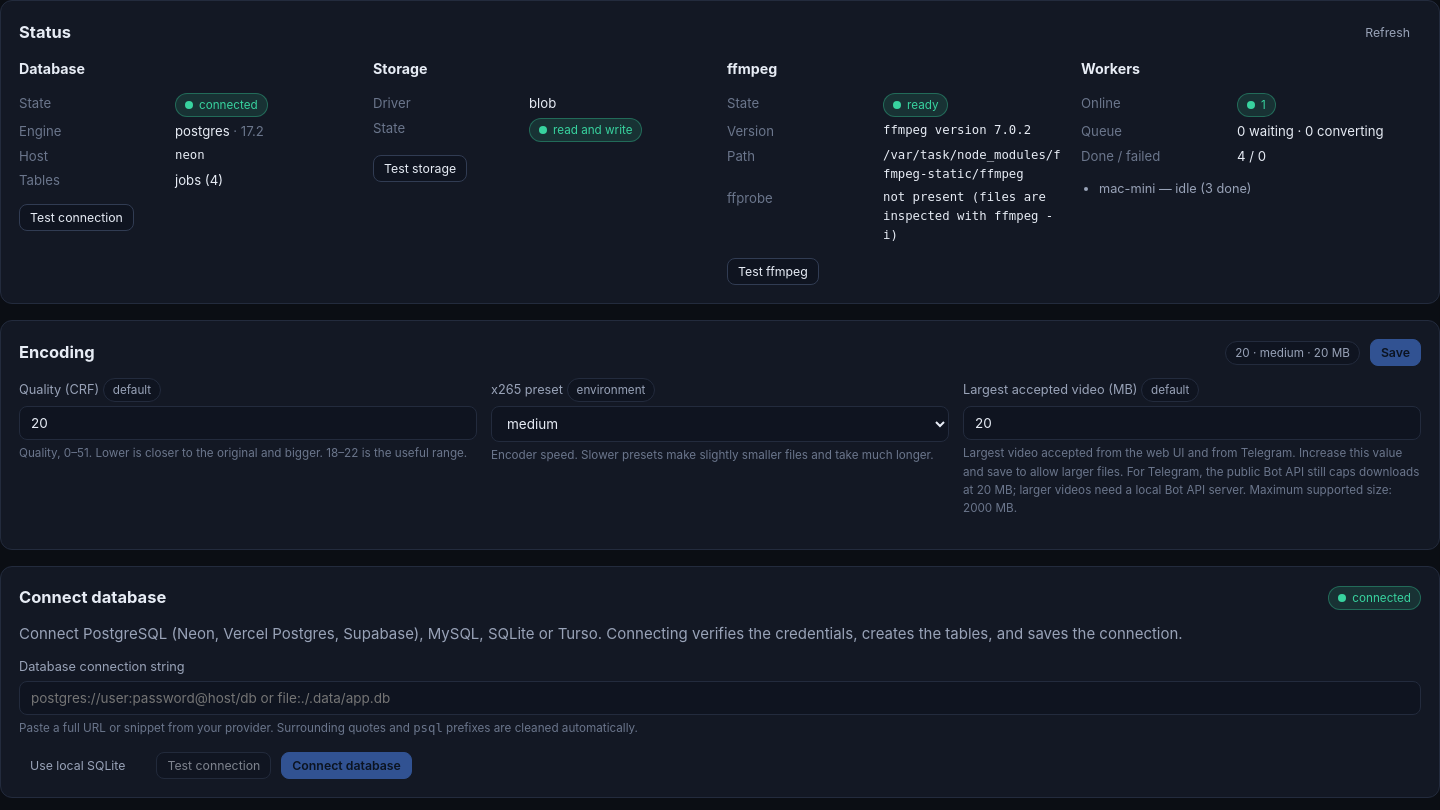
Test: the settings page › shows the deployment status and saves a changed setting
Expected: the text "postgres" is shown, 175,123 -> 230,139
Expected: the text "neon" is shown, 175,148 -> 205,162
Replace the text in the number field labelled "Largest accepted video (MB) default" with "1500" at (1192, 423), box 963,406 -> 1421,440
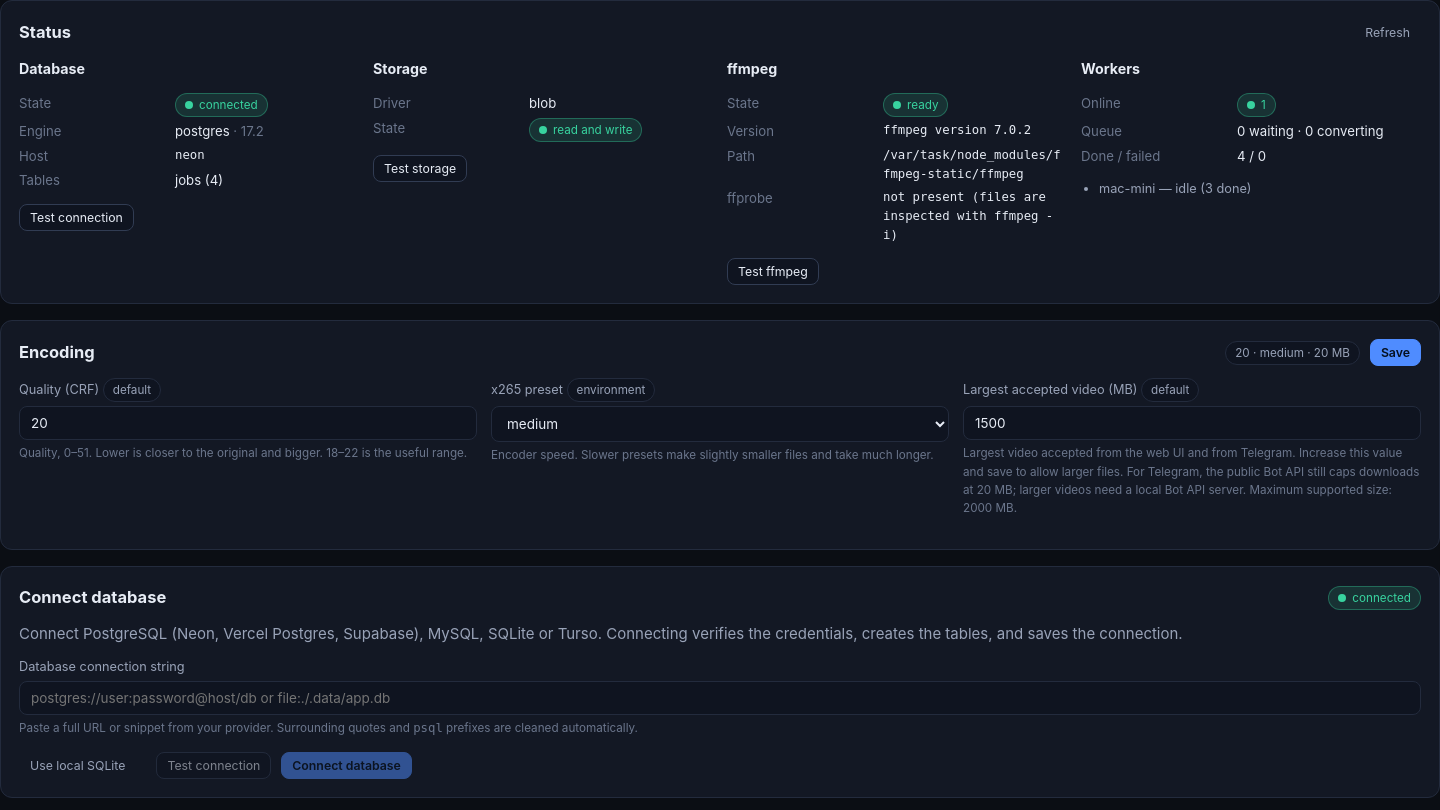
Replace the text in the field labelled "Quality (CRF) default" with "24" at (248, 423), box 19,406 -> 477,440
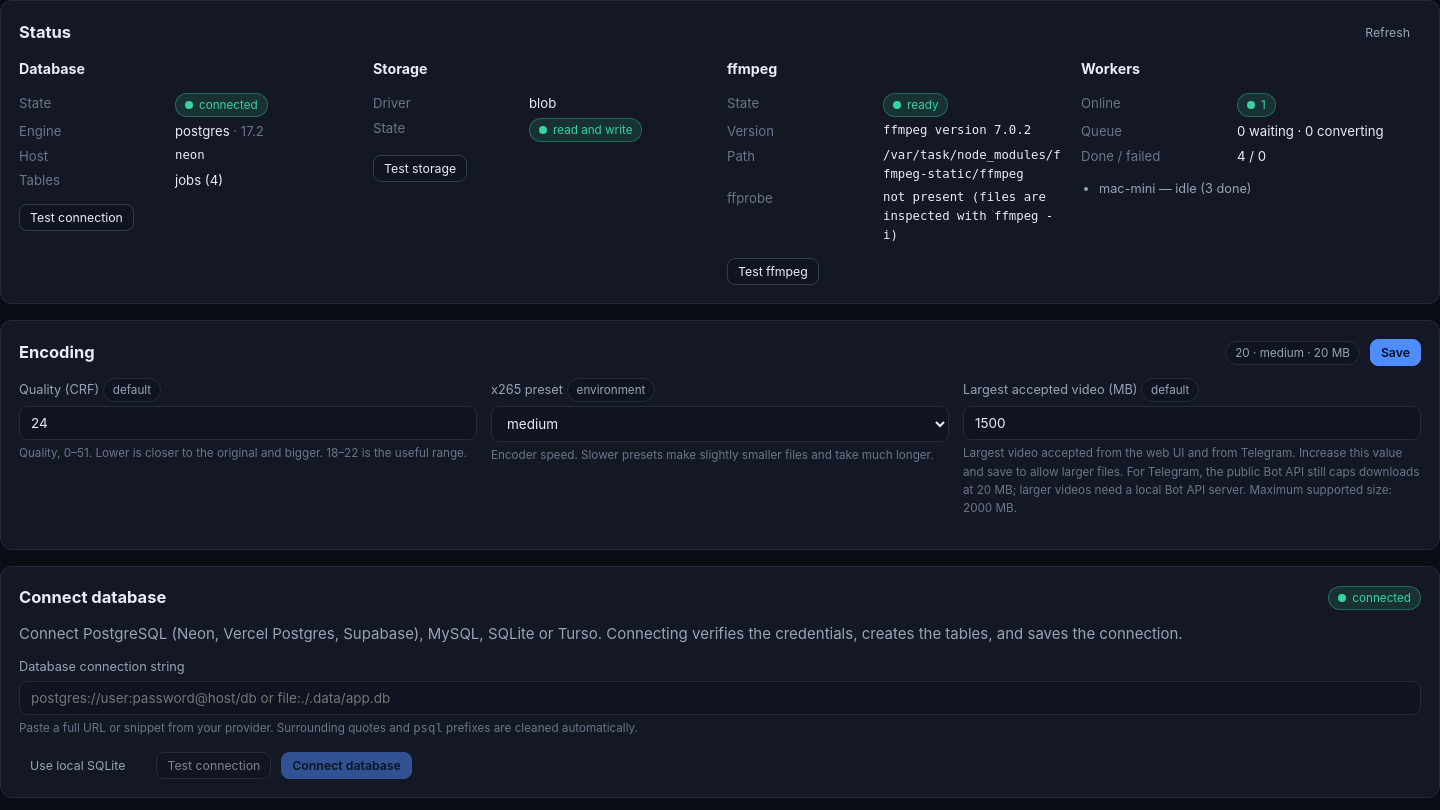
Click the button "Save" at (1395, 353), box 1370,339 -> 1421,366
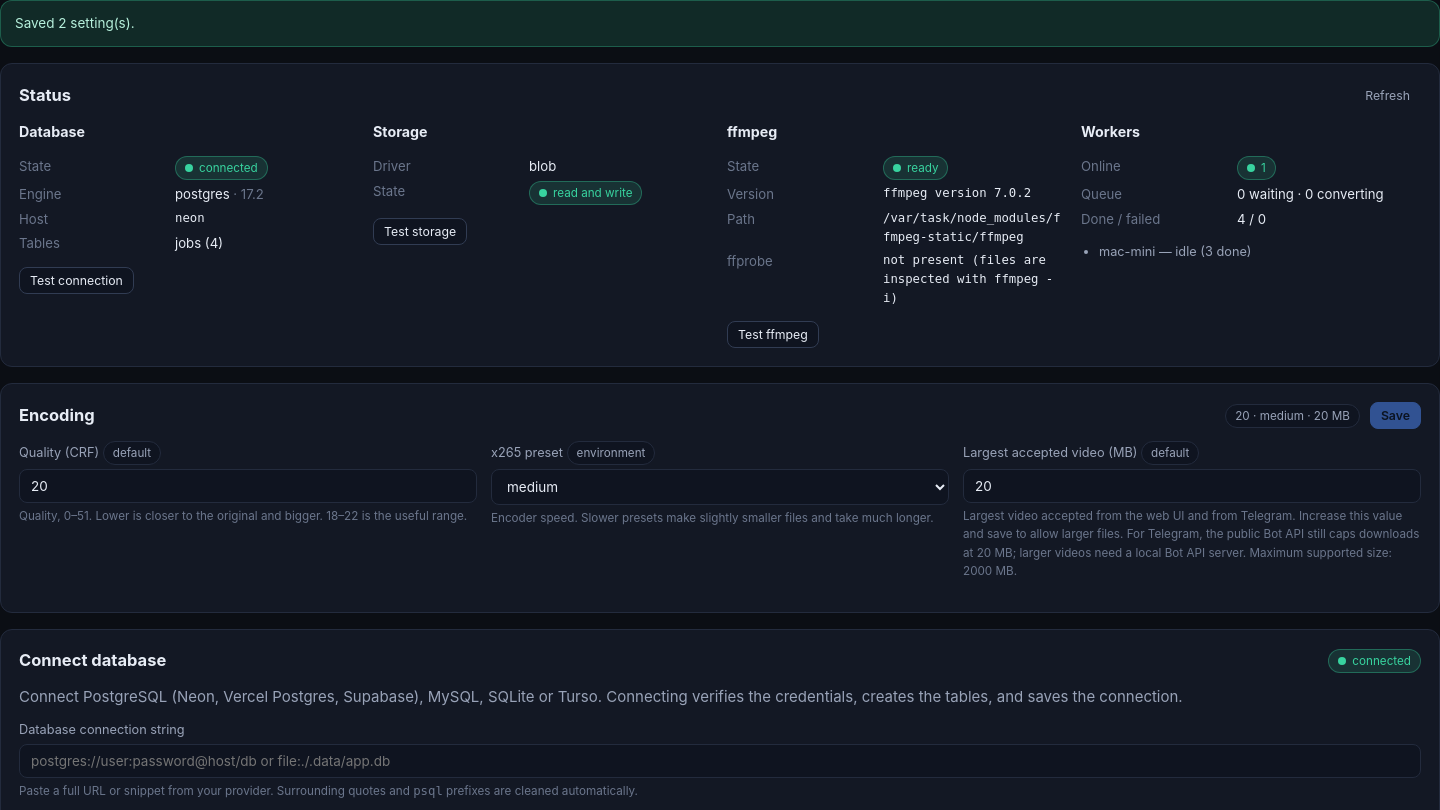
Expected: the text "Saved 2 setting(s)." is shown, 0,0 -> 1439,47
